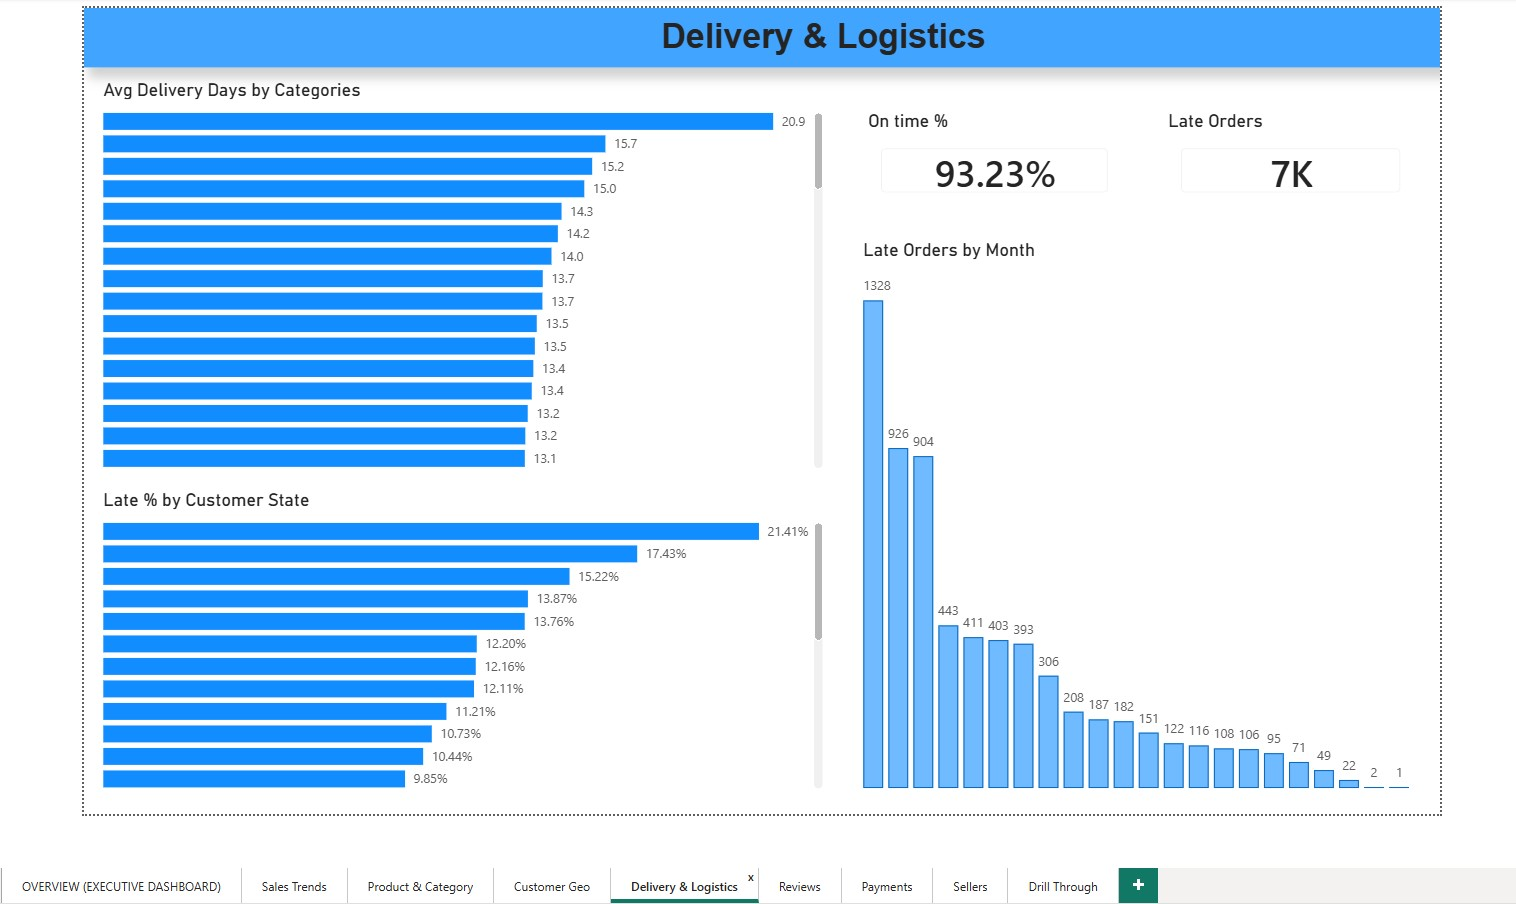

This screenshot's page, from the dashboard's own definition file:
{"tool":"powerbi","page":{"name":"Delivery & Logistics","canvas":[1280,760],"ordinal":4},"visuals":[{"type":"cardVisual","title":"Late Orders","fields":{"Data":["public bi_fact_sales.Late Orders"]},"box":[1017.7,95.8,241.2,95.8],"z":0},{"type":"cardVisual","title":"On time %","fields":{"Data":["public bi_fact_sales.On-time %"]},"box":[734.9,95.8,248.3,95.8],"z":1000},{"type":"clusteredColumnChart","title":"Late Orders by Month","fields":{"Category":["DimDate.Year-Month"],"Y":["public bi_fact_sales.Late Orders"]},"box":[730.2,217.7,525,524],"z":2000},{"type":"clusteredBarChart","title":"Avg Delivery Days by Categories","fields":{"Category":["public bi_fact_sales.category"],"Y":["public bi_fact_sales.Avg Delivery Days"]},"box":[13.5,66.7,688.5,371.9],"z":3000},{"type":"clusteredBarChart","title":"Late % by Customer State","fields":{"Y":["public bi_fact_sales.Late %"],"Category":["public bi_fact_sales.customer_state"]},"box":[13.5,454.2,688.5,287.5],"z":4000},{"type":"shape","box":[0,0,1280.2,56.2],"z":5000},{"type":"textbox","box":[539.6,4.2,324,47.9],"z":6000}]}

Visuals, with their boxes on the page's 1280x760 design canvas (x1, y1, x2, y2). These are canvas units, not pixel positions in the 1516x904 screenshot, which may show the page scaled, cropped or inside an application window:
"Late Orders" cardVisual: 1018,96,1259,192
"On time %" cardVisual: 735,96,983,192
"Late Orders by Month" clusteredColumnChart: 730,218,1255,742
"Avg Delivery Days by Categories" clusteredBarChart: 14,67,702,439
"Late % by Customer State" clusteredBarChart: 14,454,702,742
shape: 0,0,1280,56
textbox: 540,4,864,52
